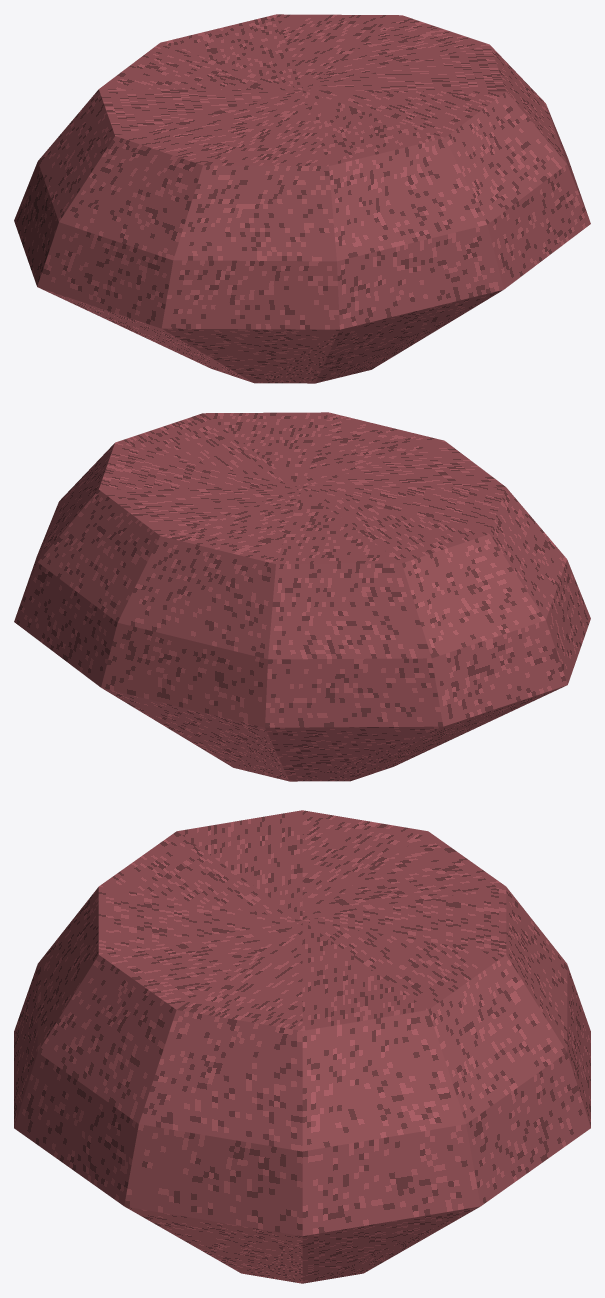
Rendered from garnet.glb.
3 renders of one model, top to bottom at view 1: azimuth 30°, elevation 25°; view 2: azimuth 150°, elevation 25°; view 3: azimuth 270°, elevation 25°, orthographic. The views are drawn at different scales.
Visible parts, largest first — view 1: block_faceted cut stone; view 2: block_faceted cut stone; view 3: block_faceted cut stone.
Boxes of the visible parts, x1,y1,x2,y2 form: block_faceted cut stone: (14,14,590,383); block_faceted cut stone: (14,412,590,781); block_faceted cut stone: (14,810,590,1283).
Size of the model in its own units: 0.0505 by 0.0246 by 0.0394.
1 material, 1 textured.
